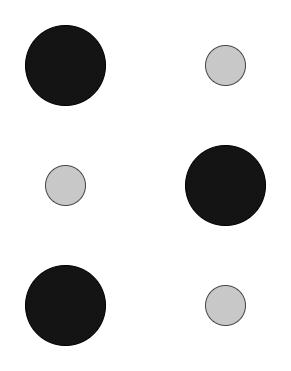O: (18, 17, 272, 353)
